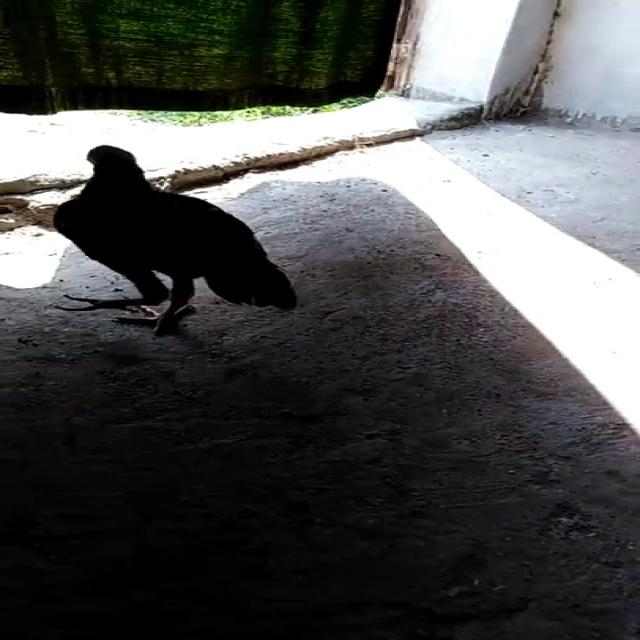walking: (34, 130, 340, 345)
